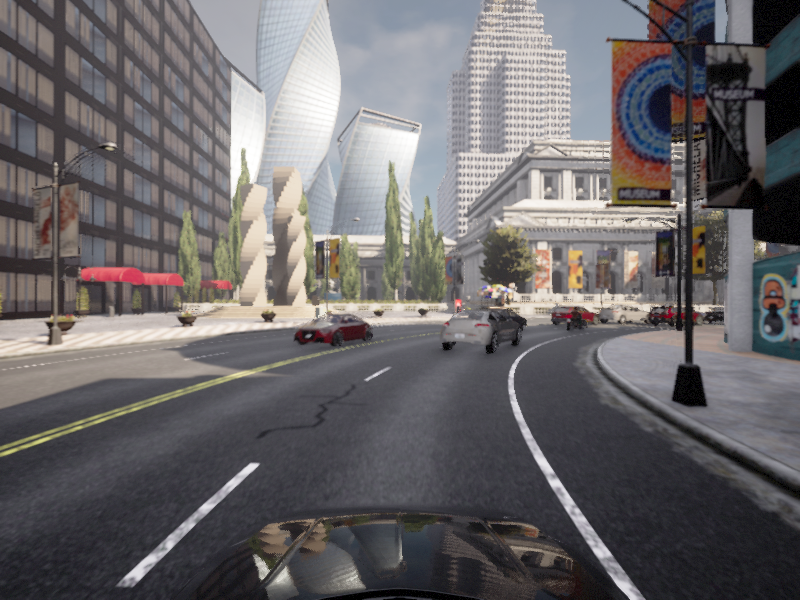vehicle: (433, 308, 524, 356), (288, 312, 376, 349), (467, 307, 531, 333), (700, 305, 773, 325), (643, 305, 708, 326), (545, 305, 603, 327), (594, 304, 654, 324), (647, 307, 713, 323), (562, 306, 590, 332)
